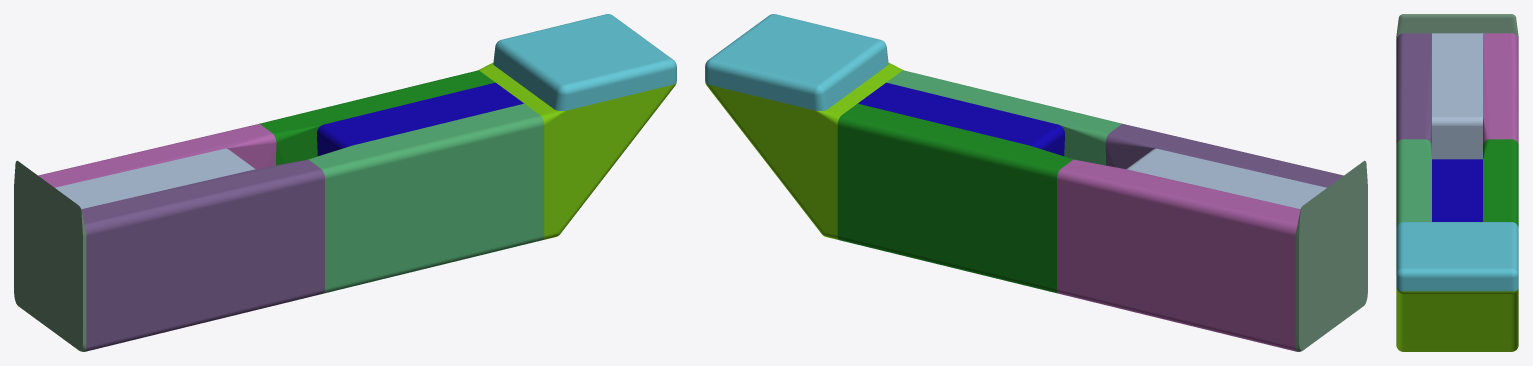
File: 1_body.obj
The picture shows the model from 3 angles, left to right: view 1: azimuth 30°, elevation 25°; view 2: azimuth 150°, elevation 25°; view 3: azimuth 270°, elevation 25°; orthographic projection. The views are drawn at different scales.
Visible parts, largest first — view 1: geometry_1, geometry_3, geometry_2, geometry_0, geometry_4, geometry_5, geometry_8, geometry_6, geometry_7; view 2: geometry_7, geometry_8, geometry_2, geometry_0, geometry_4, geometry_5, geometry_3, geometry_6, geometry_1; view 3: geometry_2, geometry_4, geometry_6, geometry_1, geometry_7, geometry_5, geometry_8, geometry_3, geometry_0.
Part boxes in pixels (bbox=[...]): geometry_1: bbox=[81, 159, 324, 351]; geometry_3: bbox=[308, 103, 544, 293]; geometry_2: bbox=[493, 14, 676, 110]; geometry_0: bbox=[14, 160, 86, 351]; geometry_4: bbox=[478, 63, 676, 239]; geometry_5: bbox=[317, 82, 523, 155]; geometry_8: bbox=[259, 70, 495, 165]; geometry_6: bbox=[55, 148, 255, 208]; geometry_7: bbox=[38, 124, 276, 187]; geometry_7: bbox=[1057, 159, 1300, 351]; geometry_8: bbox=[837, 103, 1073, 293]; geometry_2: bbox=[705, 14, 888, 110]; geometry_0: bbox=[1295, 160, 1367, 351]; geometry_4: bbox=[705, 63, 903, 239]; geometry_5: bbox=[858, 82, 1064, 155]; geometry_3: bbox=[886, 70, 1122, 165]; geometry_6: bbox=[1126, 148, 1326, 209]; geometry_1: bbox=[1105, 124, 1343, 187]; geometry_2: bbox=[1396, 222, 1518, 291]; geometry_4: bbox=[1396, 289, 1518, 351]; geometry_6: bbox=[1432, 33, 1482, 159]; geometry_1: bbox=[1396, 33, 1431, 144]; geometry_7: bbox=[1483, 33, 1518, 144]; geometry_5: bbox=[1432, 159, 1482, 221]; geometry_8: bbox=[1483, 139, 1518, 227]; geometry_3: bbox=[1396, 139, 1431, 227]; geometry_0: bbox=[1396, 14, 1518, 39].
Size of the model in its own units: 0.1274 by 0.0305 by 0.0254.
